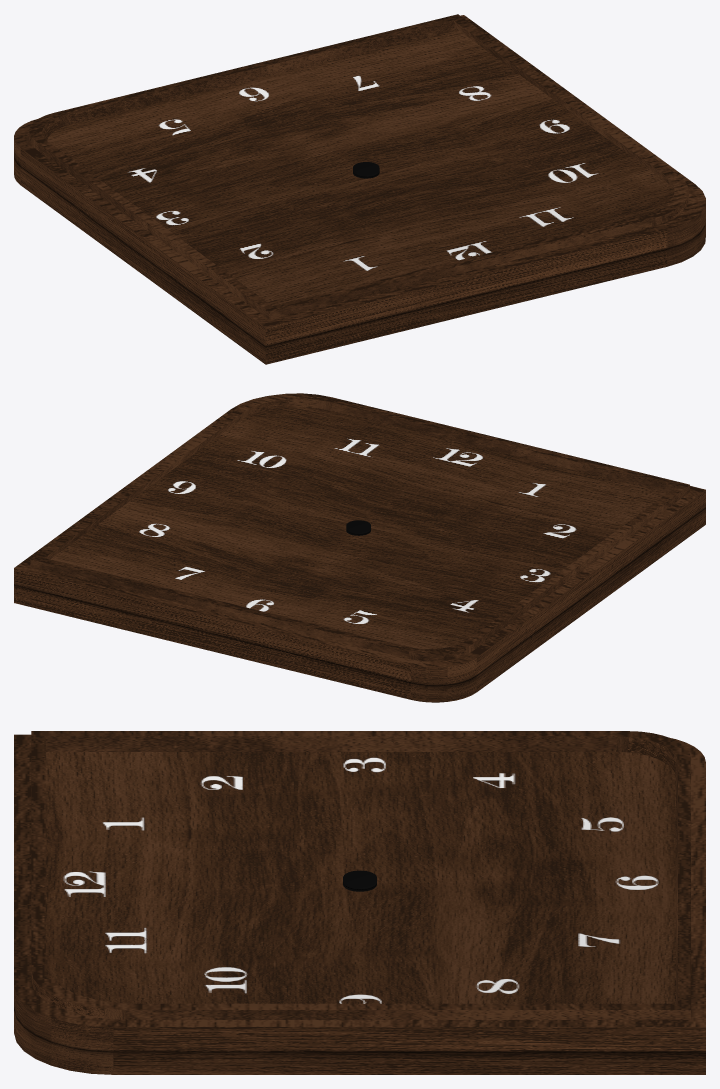
Rendered from roundsquareclock.gltf.
3 renders of one model, top to bottom at view 1: azimuth 30°, elevation 25°; view 2: azimuth 150°, elevation 25°; view 3: azimuth 270°, elevation 25°, orthographic. The views are drawn at different scales.
Visible parts, largest first — view 1: Cube; view 2: Cube; view 3: Cube, Cylinder.002.
Part boxes in pixels (x1=…): Cube: x1=14, y1=14, x2=705, y2=364; Cube: x1=14, y1=393, x2=705, y2=702; Cube: x1=14, y1=731, x2=705, y2=1074; Cylinder.002: x1=343, y1=870, x2=376, y2=891.
Size of the model in its own units: 0.4547 by 0.0419 by 0.4547.
3 materials, 2 textured.
